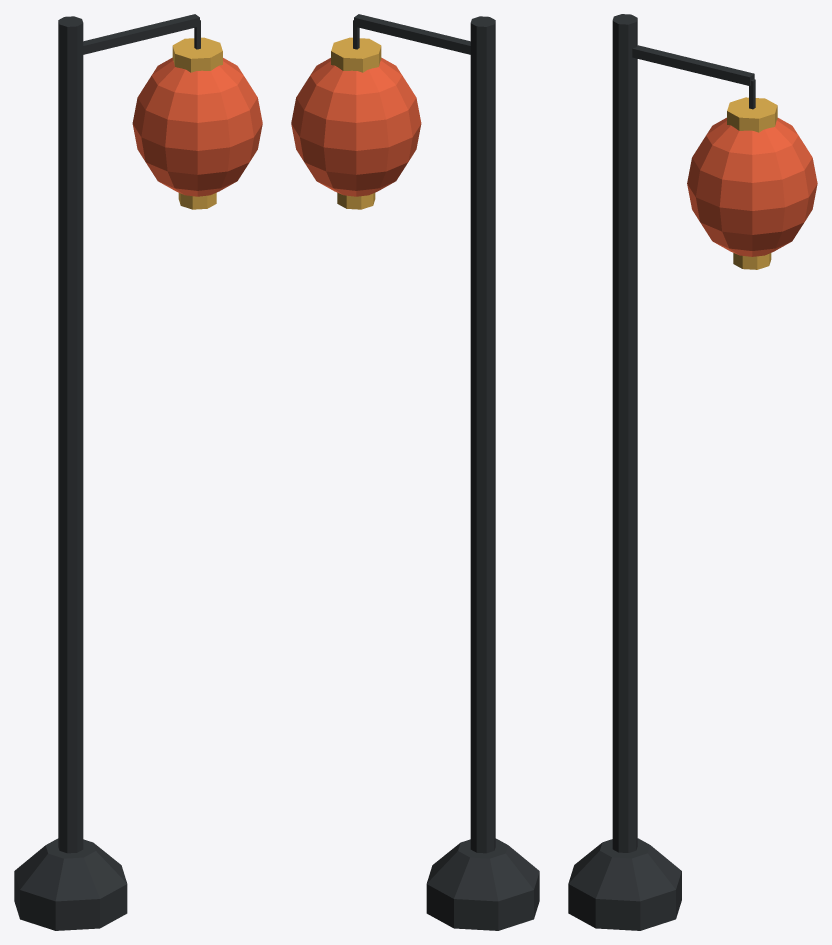
The model's file is map3_lantern_pole_v01.glb.
The picture shows the model from 3 angles, left to right: view 1: azimuth 30°, elevation 25°; view 2: azimuth 150°, elevation 25°; view 3: azimuth 330°, elevation 25°; orthographic projection.
Visible parts, largest first — view 1: lantern_pole; view 2: lantern_pole; view 3: lantern_pole.
Part boxes in pixels (<box>): lantern_pole: <box>14,14,262,930</box>; lantern_pole: <box>291,14,539,930</box>; lantern_pole: <box>568,14,817,930</box>.
Bounding box in the file's own units: 0.83 × 3 × 0.4.
